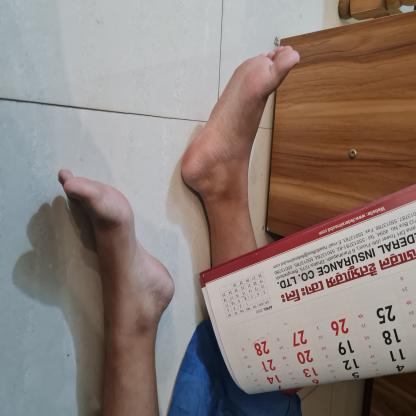leg: (51, 160, 180, 416), (174, 35, 305, 266)
